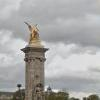Statue: (12, 8, 52, 100)
